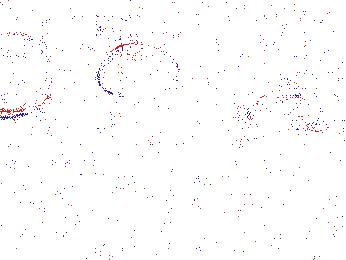moon jellyfish: (201, 35, 298, 93), (95, 43, 181, 98), (1, 29, 54, 118), (300, 35, 346, 132)
